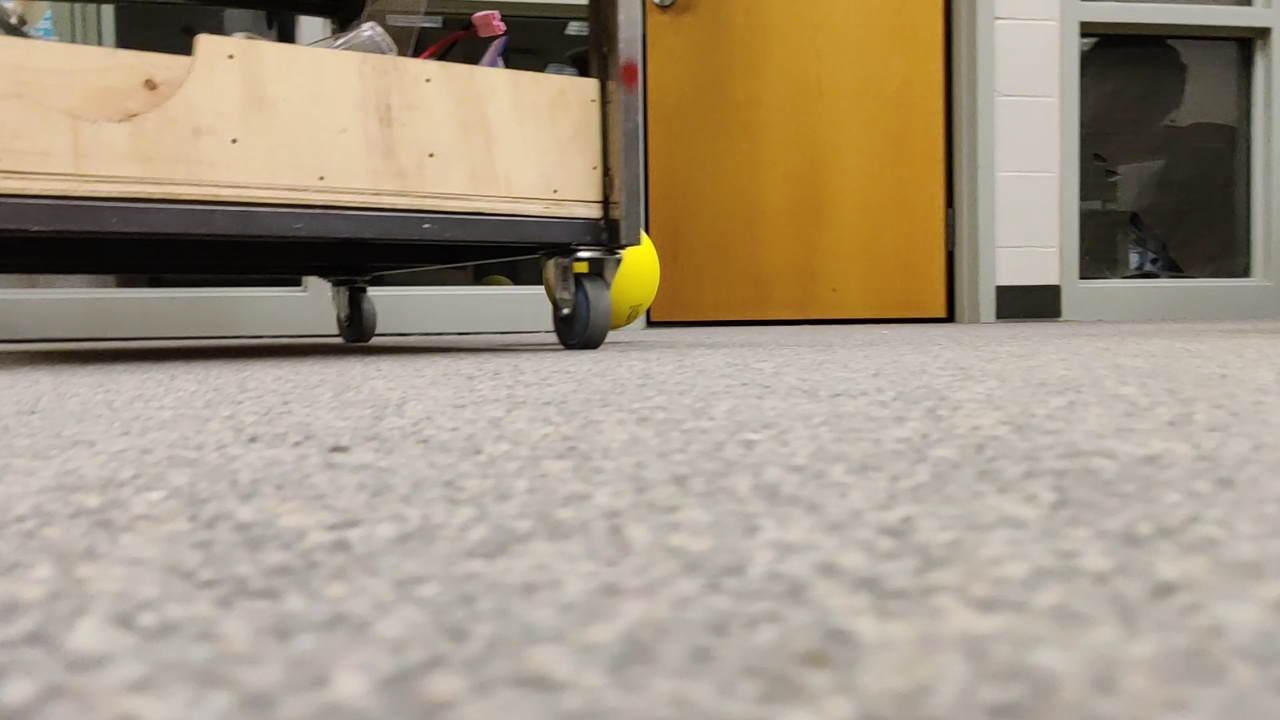Ball: (613, 231, 656, 335)
